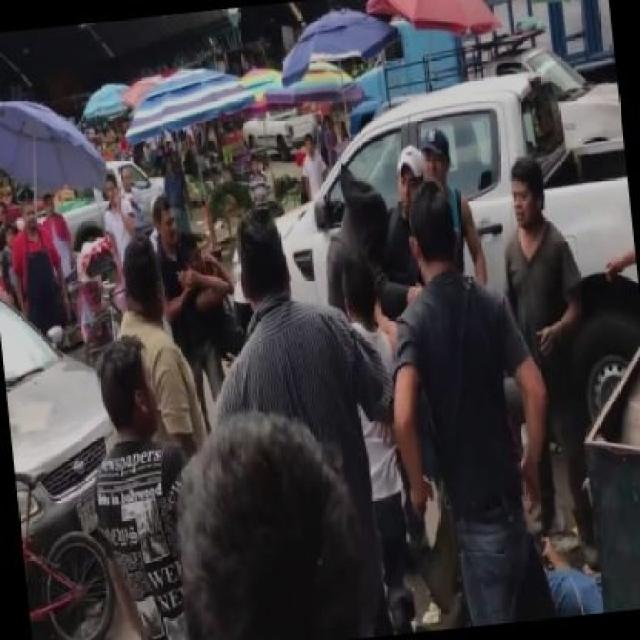non-fight: (365, 182, 550, 636), (48, 317, 232, 638), (3, 195, 74, 348)
